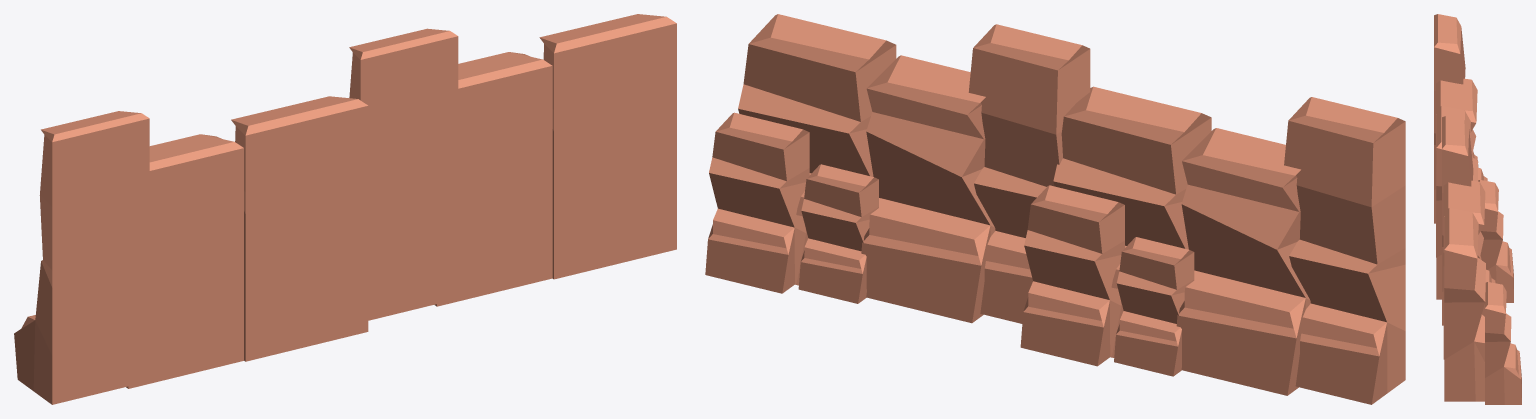
Rendered from cliff1_coral.glb.
3 views of the same model, side by side, from view 1: azimuth 30°, elevation 25°; view 2: azimuth 150°, elevation 25°; view 3: azimuth 270°, elevation 25° (orthographic). The views are drawn at different scales.
Parts seen in each view (by area): view 1: Cube; view 2: Cube; view 3: Cube.
Boxes of the visible parts, box(x1,y1,x2,y2) form: Cube: box(14, 14, 676, 404); Cube: box(705, 14, 1405, 404); Cube: box(1434, 14, 1521, 404).
Size of the model in its own units: 167 by 66.75 by 28.92.
